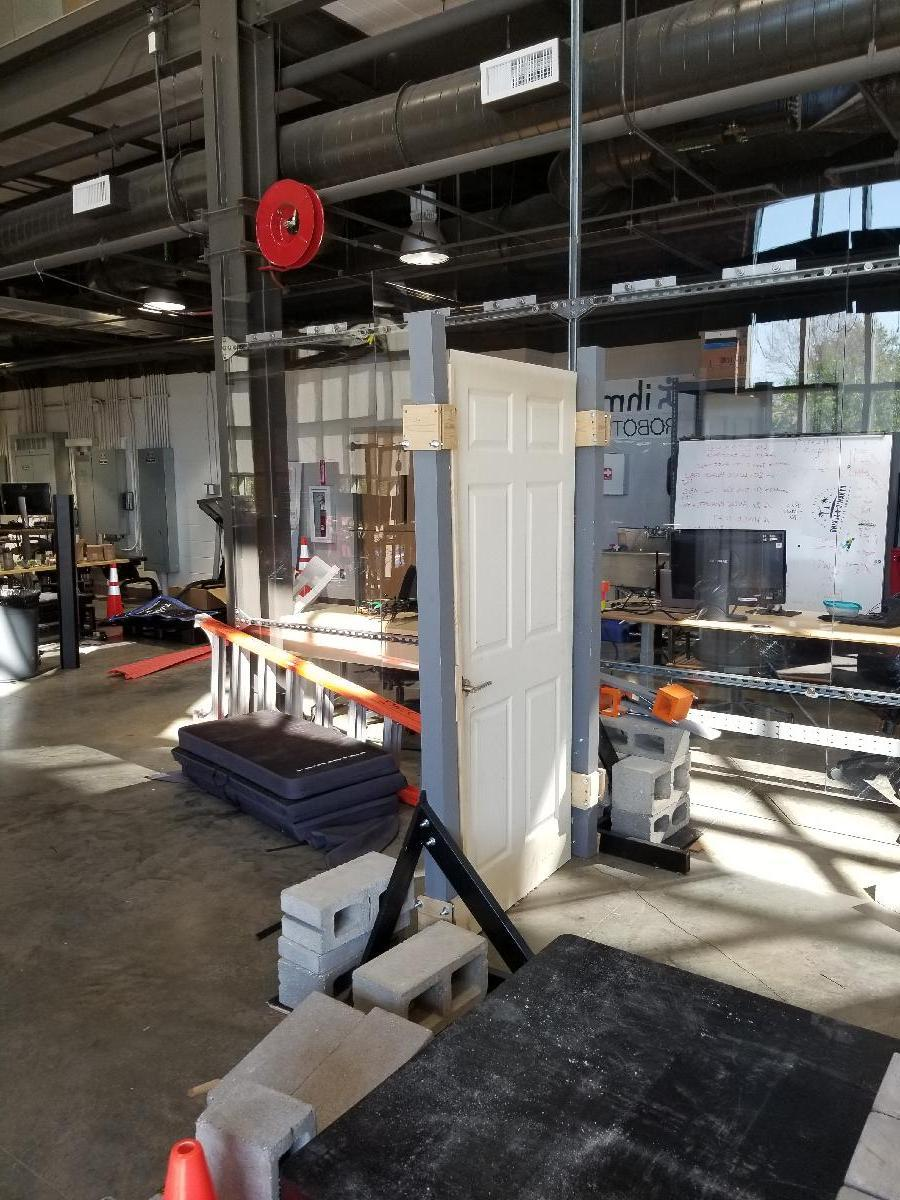door: (444, 348, 582, 929)
handle: (456, 671, 494, 702)
